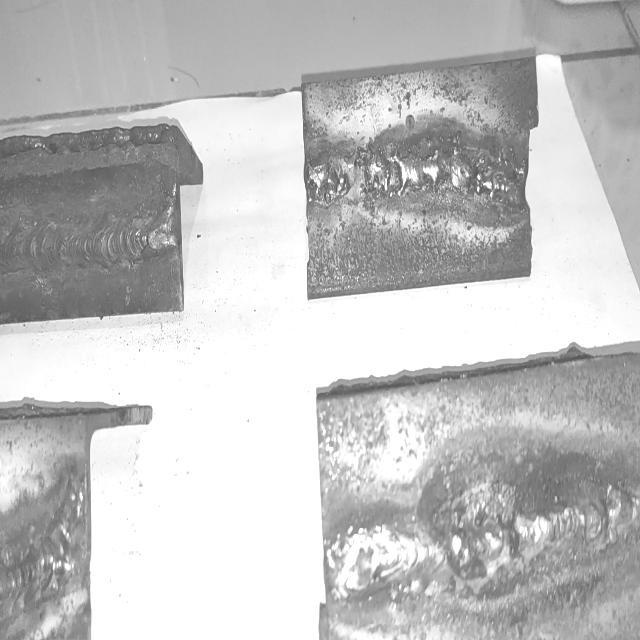Defect: (430, 436, 552, 628), (364, 140, 532, 210), (0, 528, 81, 614), (308, 146, 342, 212)
Welding Line: (328, 476, 634, 604), (6, 202, 175, 268)
Workpiece: (306, 351, 640, 640), (298, 56, 542, 298), (0, 116, 190, 322), (0, 407, 92, 640)
